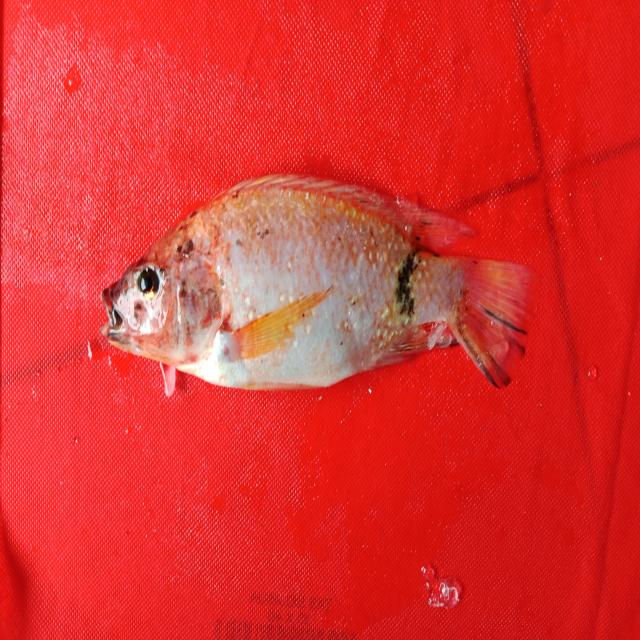ikan: (92, 153, 545, 417)
